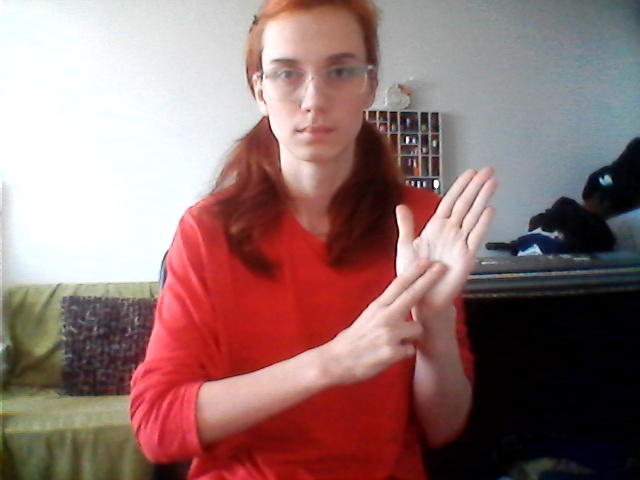n: (363, 161, 504, 386)
